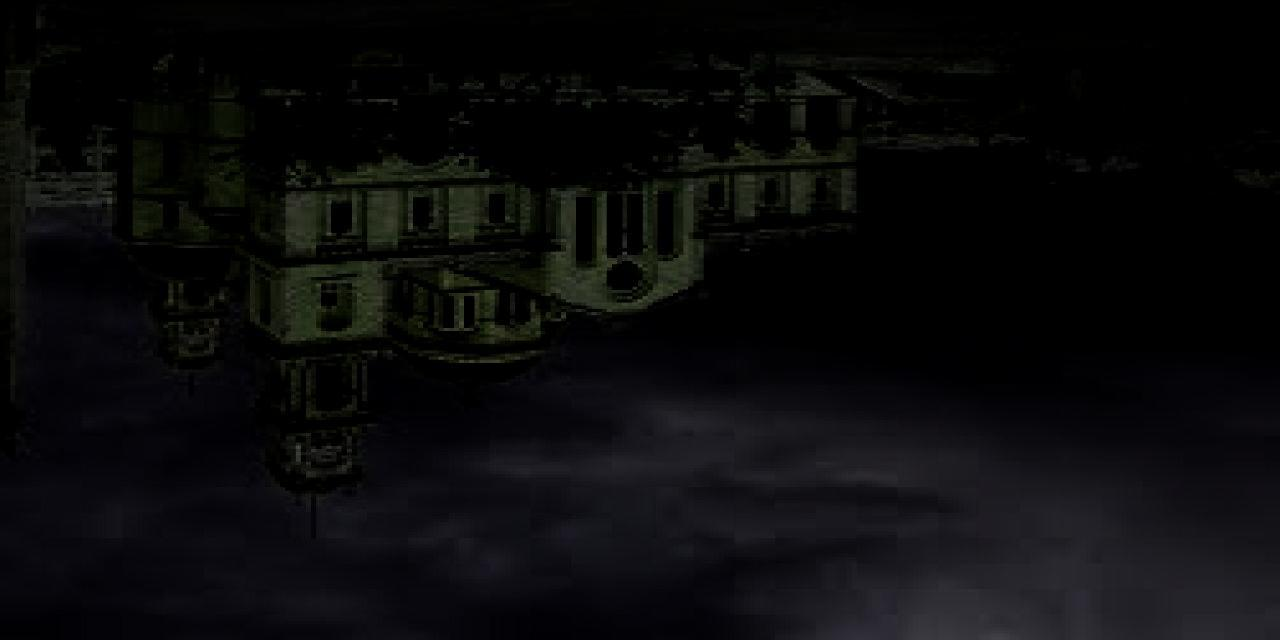Agios Minas: (116, 68, 850, 502)
